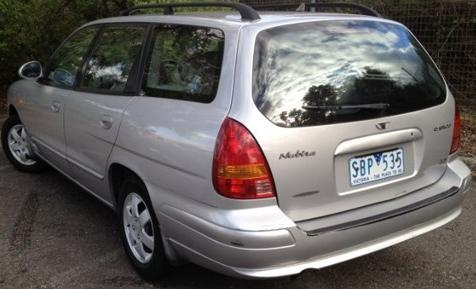back_view: (215, 101, 466, 246)
backlight: (205, 116, 286, 204)
side_glass: (38, 16, 156, 98)
